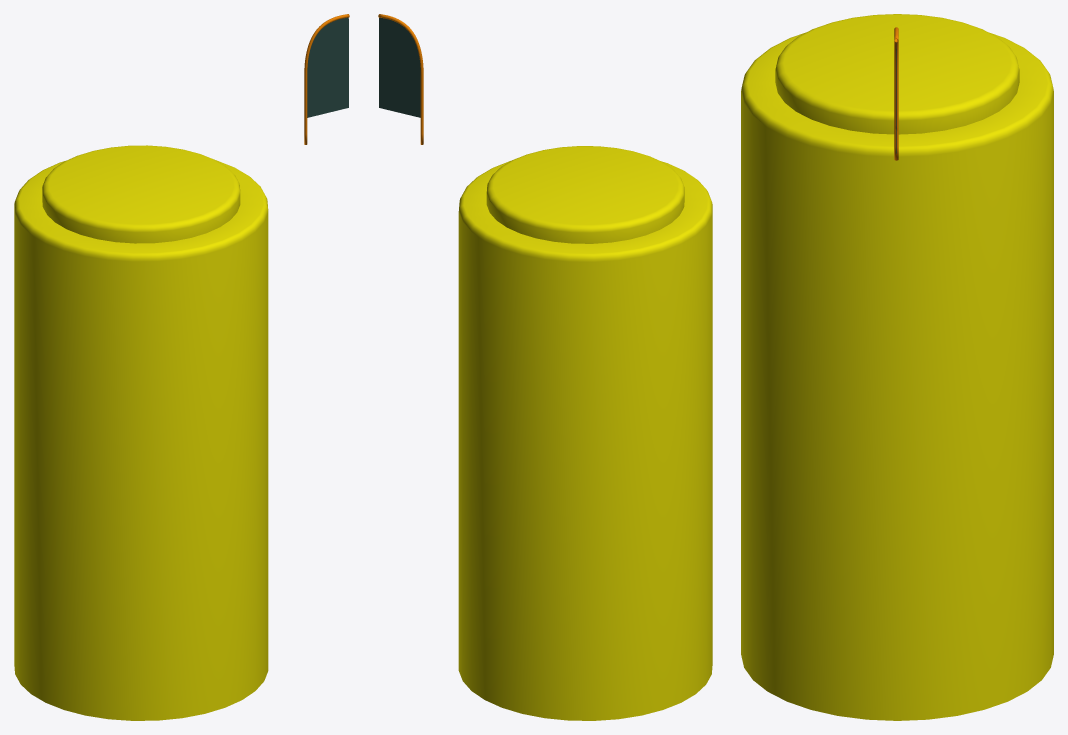
3 views of the same model, side by side, from view 1: azimuth 30°, elevation 25°; view 2: azimuth 150°, elevation 25°; view 3: azimuth 270°, elevation 25° (orthographic). The views are drawn at different scales.
Visible parts, largest first — view 1: final-plate, flag; view 2: final-plate, flag; view 3: final-plate, flag.
Part boxes in pixels (left/top/right/bottom): final-plate: left=14, top=145, right=268, bottom=720; flag: left=304, top=14, right=349, bottom=144; final-plate: left=458, top=146, right=712, bottom=720; flag: left=378, top=14, right=423, bottom=144; final-plate: left=741, top=14, right=1053, bottom=720; flag: left=894, top=27, right=898, bottom=160.
Size of the model in its own units: 1135 by 2062 by 789.
